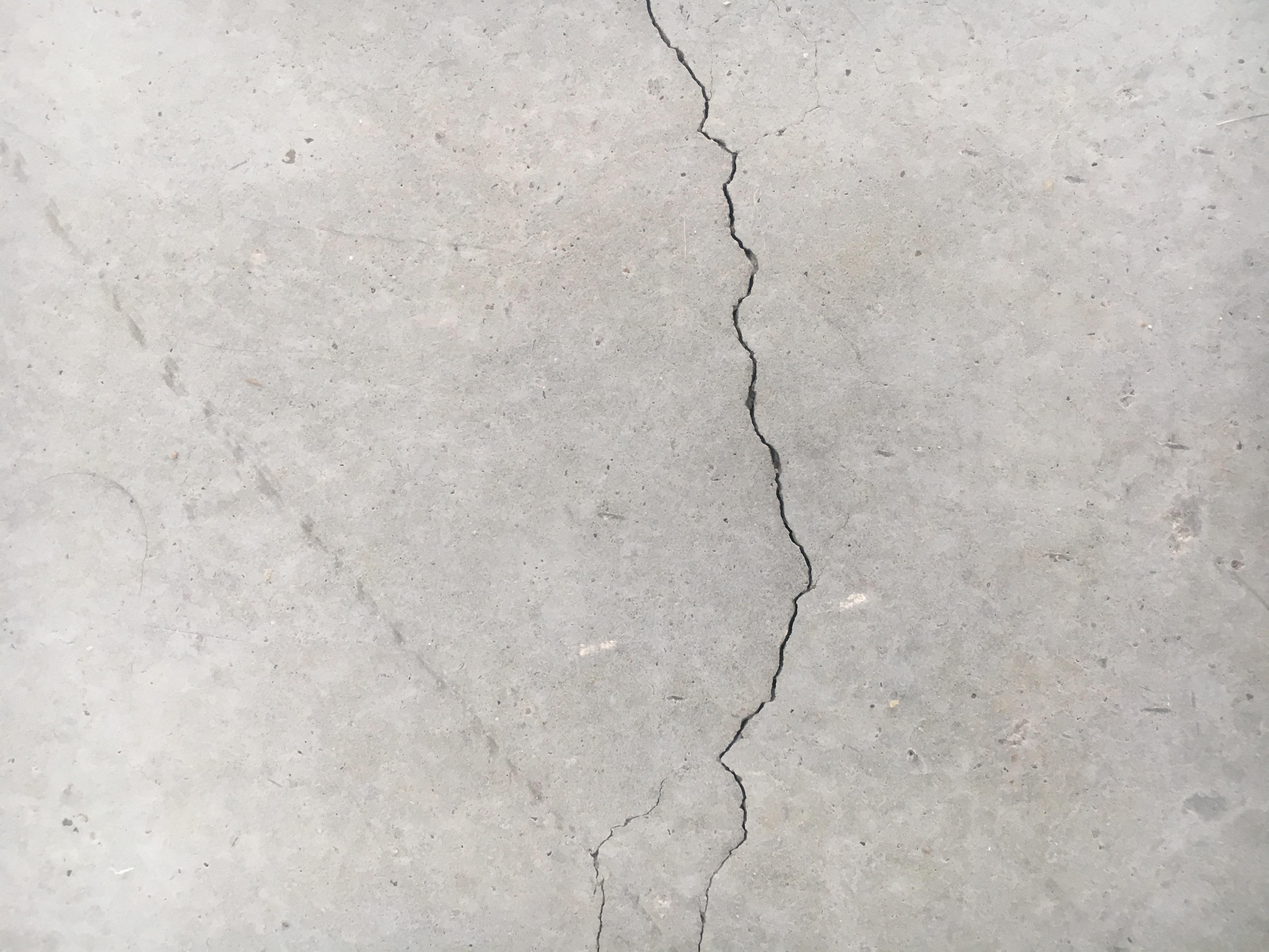Hairline-Crack: (588, 777, 668, 952)
Vertical Crack: (624, 1, 818, 952)
